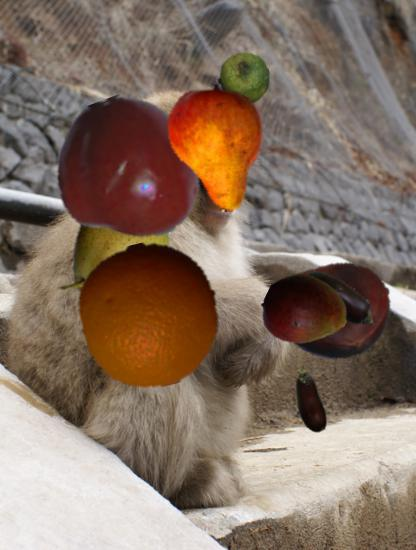Cherry: (52, 97, 199, 244)
Chestnut: (280, 255, 394, 369)
Eggplant: (296, 255, 385, 344), (274, 366, 344, 436)
Limes: (217, 52, 271, 106)
Mango: (263, 270, 347, 354)
Orange: (77, 243, 222, 388)
Pear: (152, 84, 281, 213), (52, 191, 178, 317)
